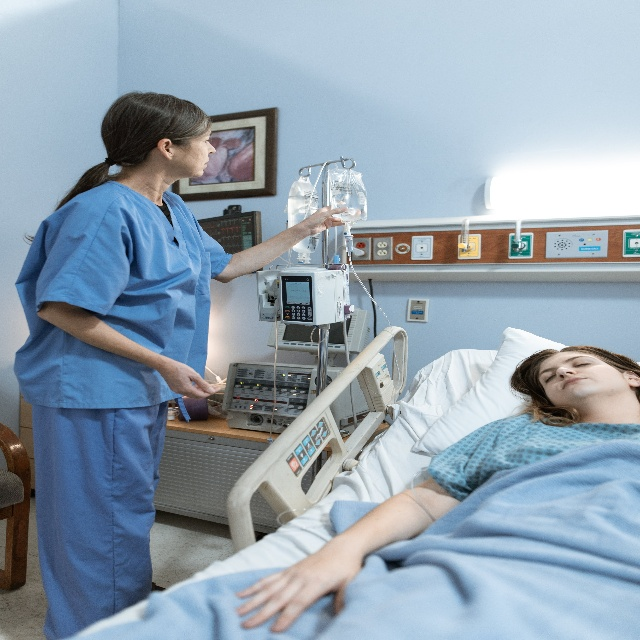Sin_guantes: (237, 534, 364, 636), (159, 356, 221, 400), (305, 200, 361, 235)
